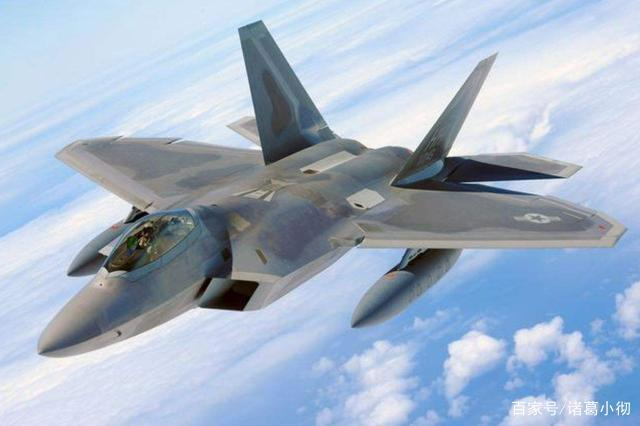airplane: (30, 18, 626, 362)
